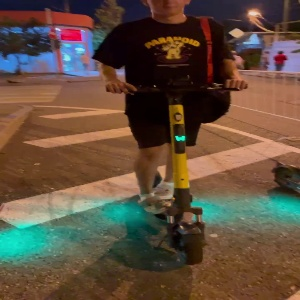human on a scooter: (92, 1, 251, 268)
